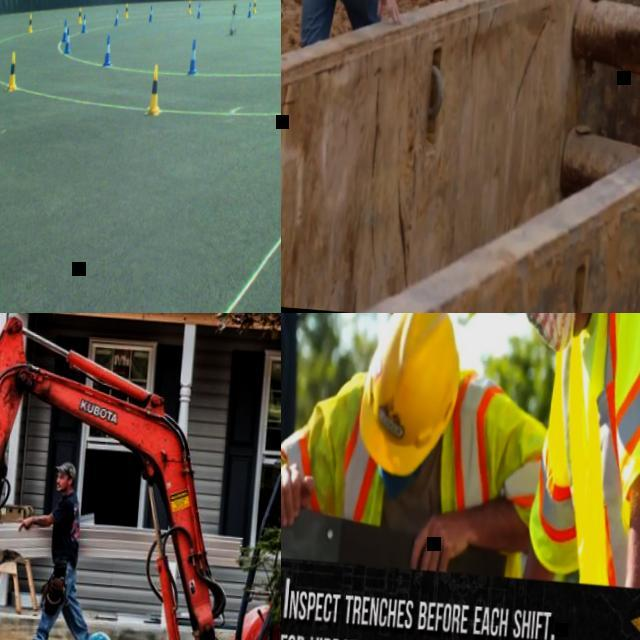helmet: (356, 313, 468, 479)
vest: (281, 355, 549, 540), (525, 313, 640, 598)
